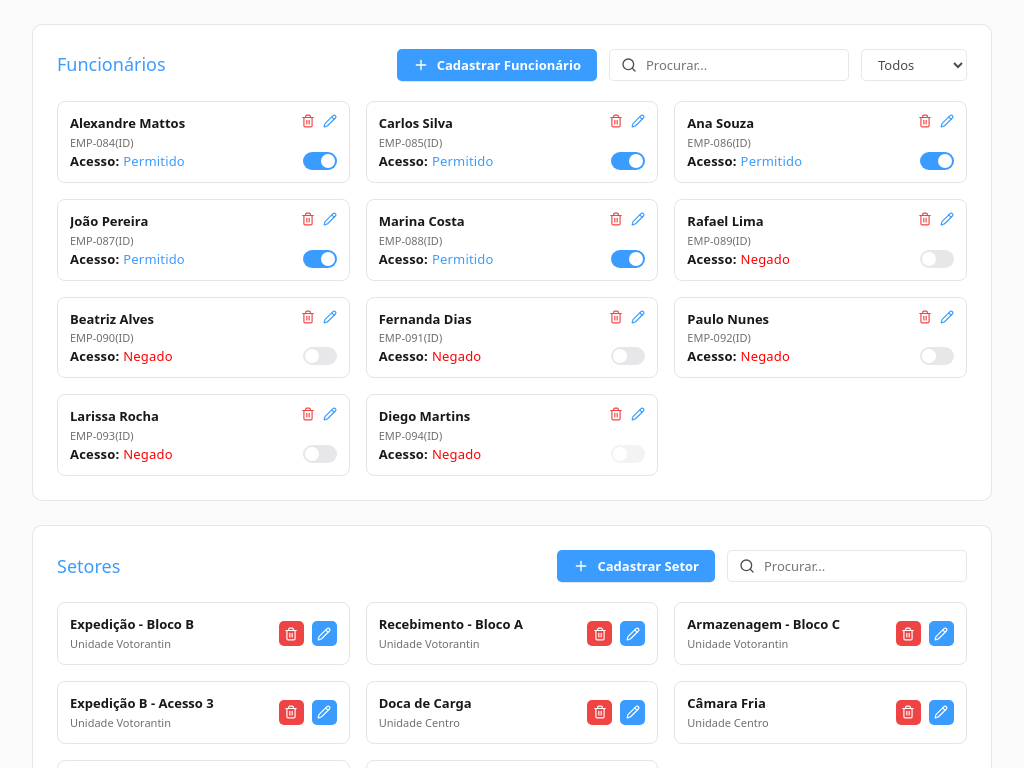
EquipePage: create, edit and details › does not change the list when the edit is cancelled
Check: the heading "Funcionários" is shown, box [57,54,166,76]
Click the button named "Editar Alexandre Mattos": x=330, y=121 [323,114,337,128]
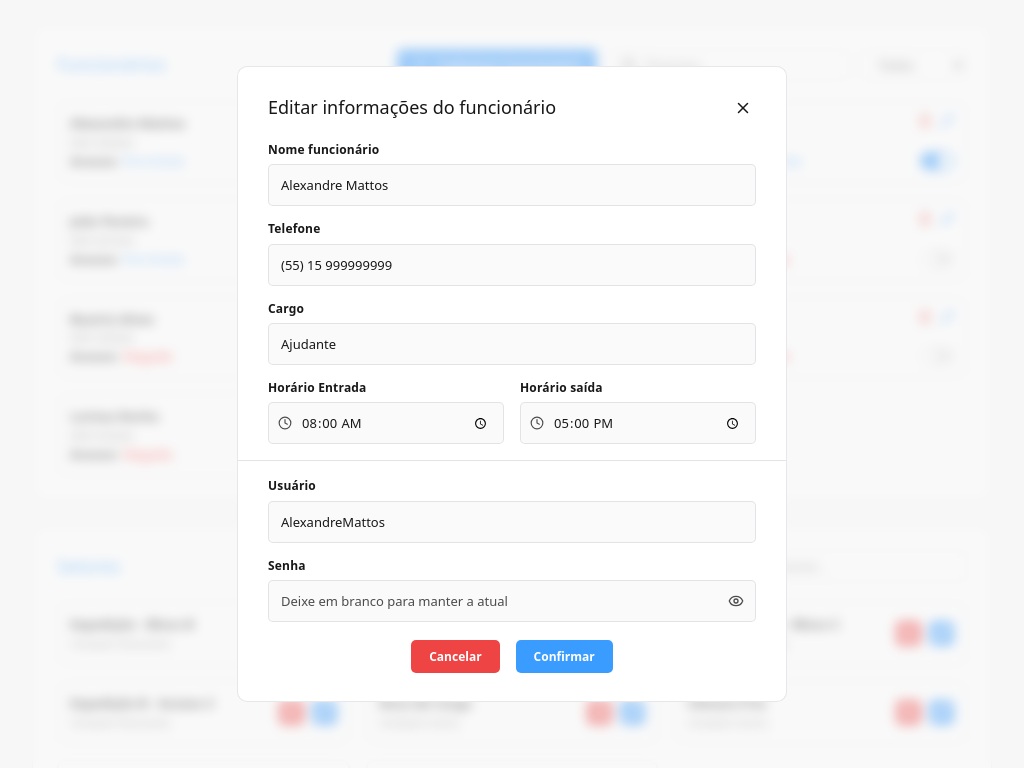
Replace the text in the field labelled "Cargo" with "Outro": x=512, y=344 [268,323,756,365]
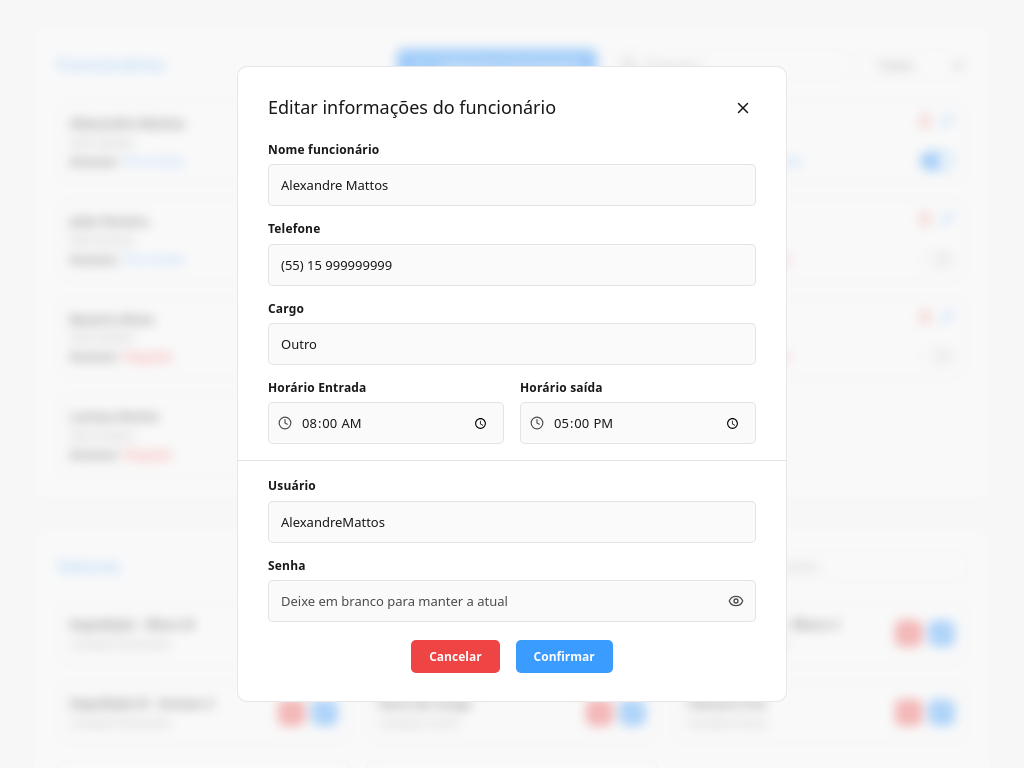
Click the button "Cancelar": x=455, y=657 [411,640,500,673]
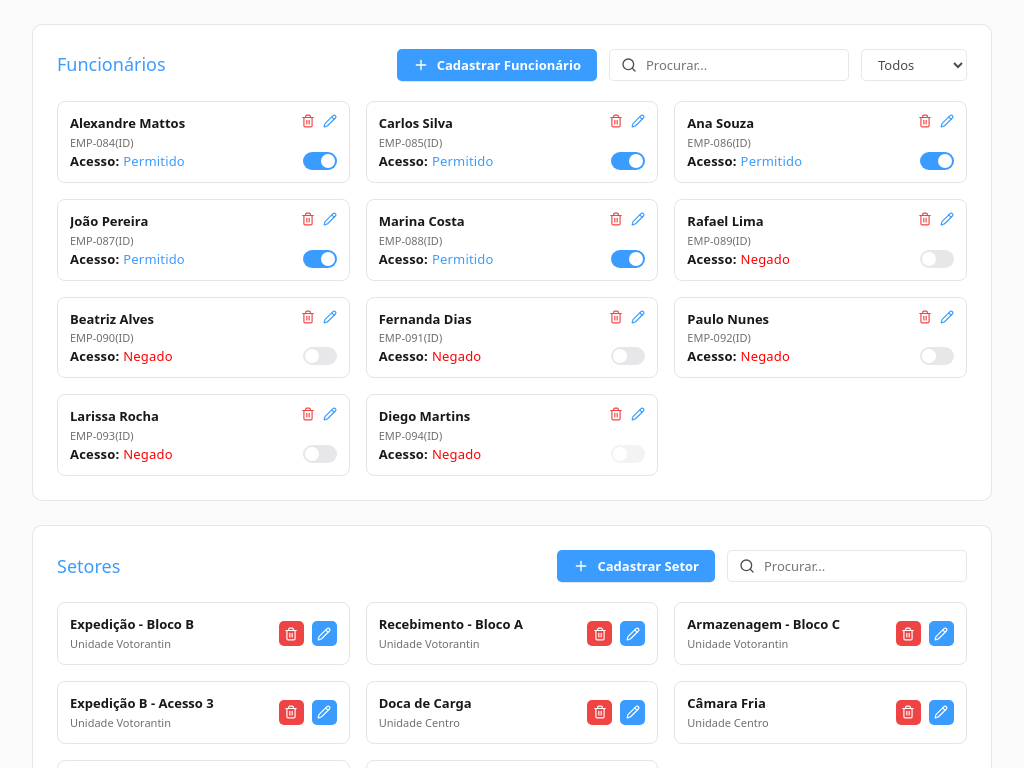
Click the button with aria-label "Ver detalhes de Alexandre Mattos": x=181, y=132 [70,114,293,151]
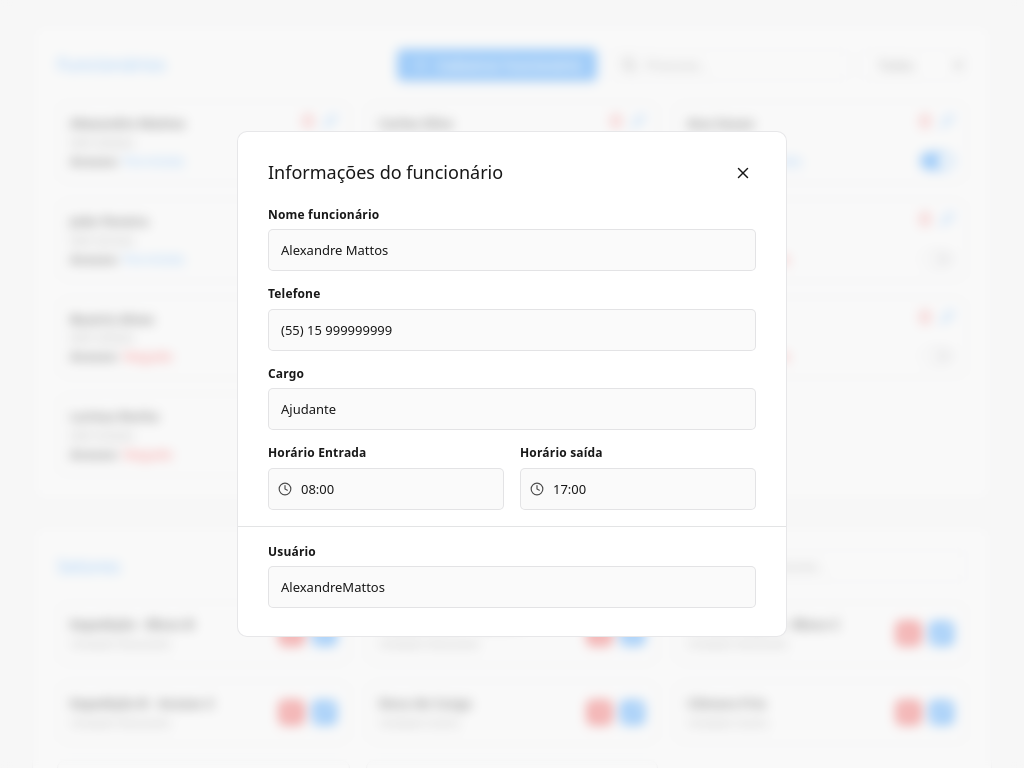
Check: the field labelled "Cargo" holds "Ajudante", box [268,388,756,430]
